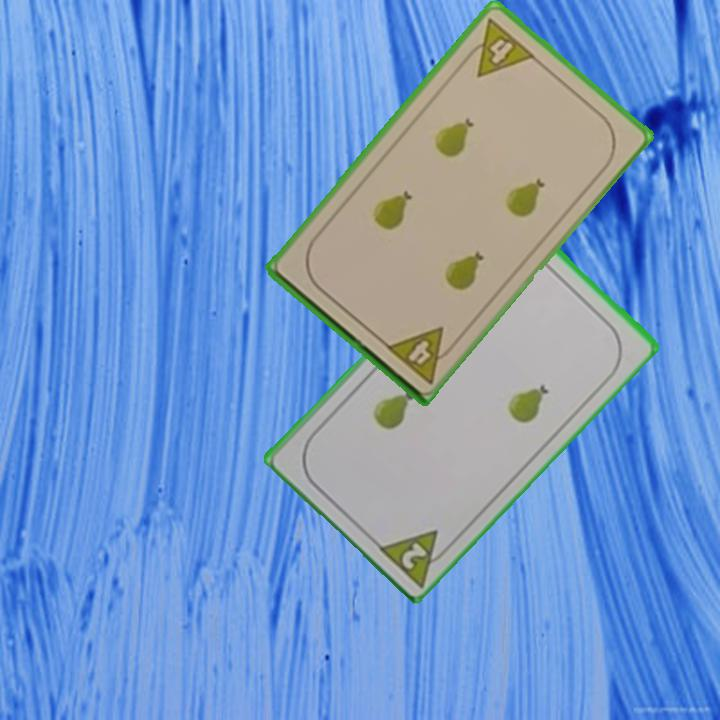2p: (372, 524, 455, 588)
4p: (457, 14, 538, 80), (382, 322, 460, 387)
